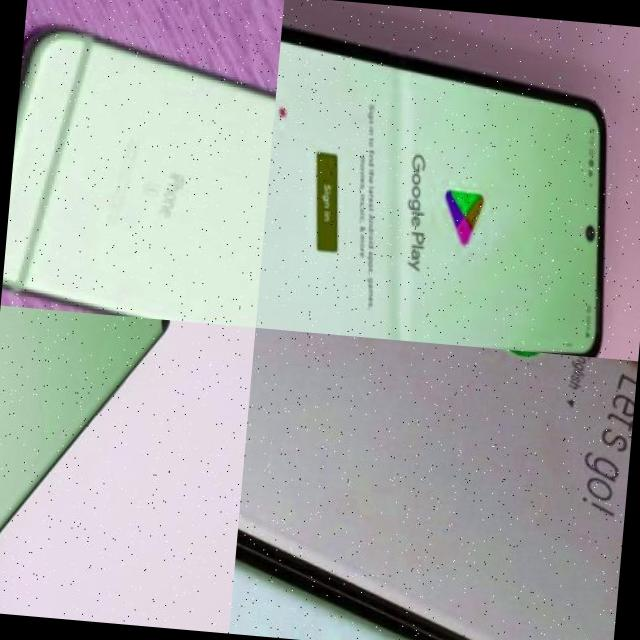dead pixel: (272, 90, 316, 144), (153, 318, 188, 338)
